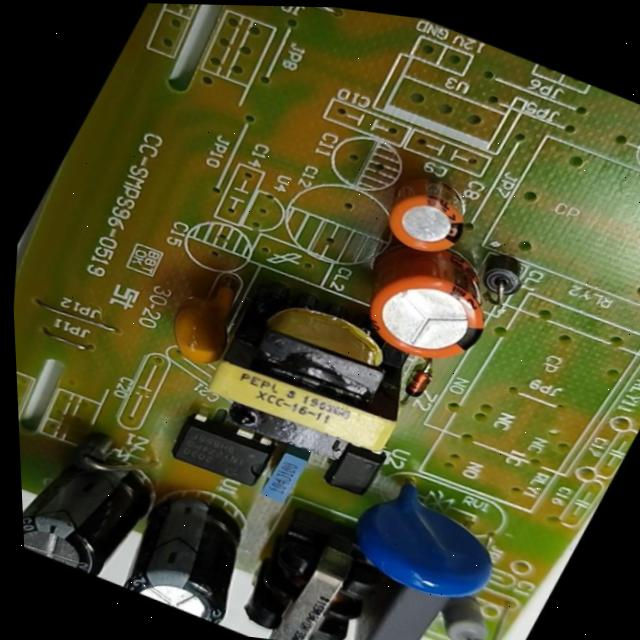Cap1: (333, 224, 528, 386)
Cap2: (365, 155, 492, 271)
Cap3: (102, 467, 290, 633)
Cap4: (19, 425, 182, 590)
MOSFET: (158, 403, 290, 499)
Mov: (330, 465, 534, 622)
Resistor: (426, 588, 521, 640)
Transformer: (171, 260, 462, 497), (220, 493, 420, 640)
